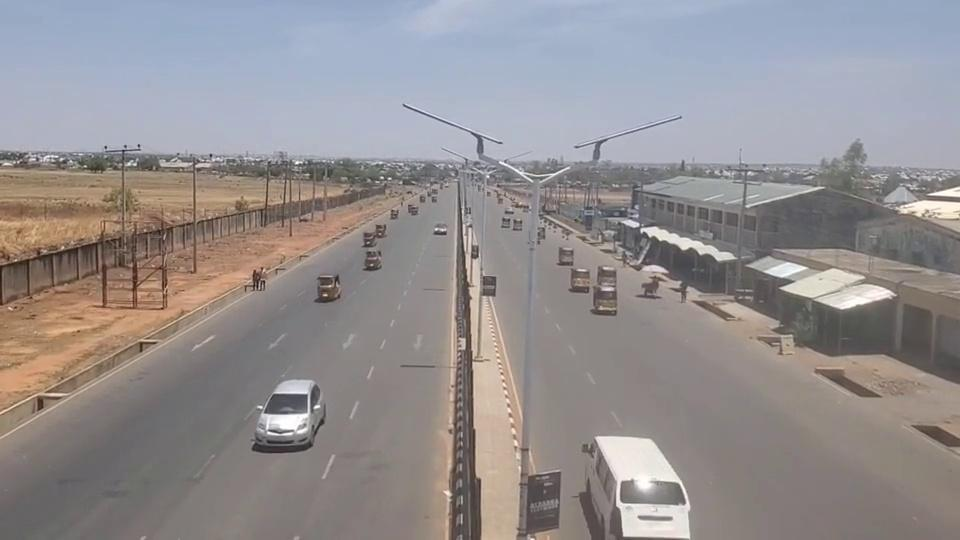bus: (580, 432, 693, 540)
car: (255, 377, 324, 446)
keke: (593, 284, 618, 316), (316, 273, 340, 300), (569, 267, 590, 292), (597, 265, 617, 286), (363, 249, 381, 270), (557, 246, 574, 265), (363, 230, 377, 246)
